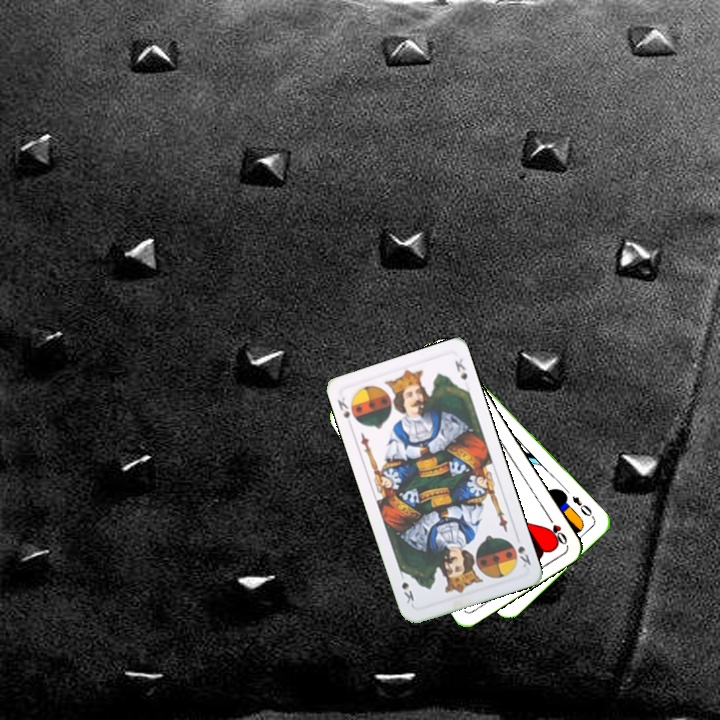EO: (568, 491, 594, 519)
HO: (543, 511, 570, 547)
SK: (333, 393, 361, 430), (514, 542, 534, 570)
